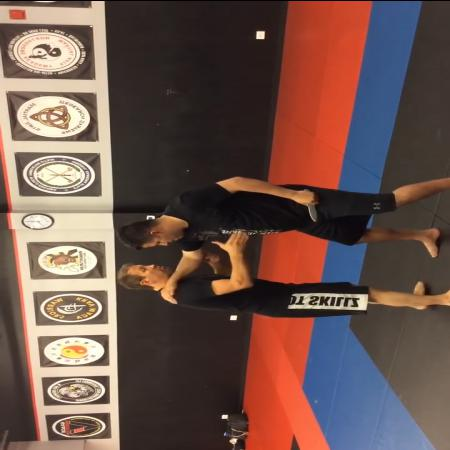long weapon: (298, 186, 320, 222)
